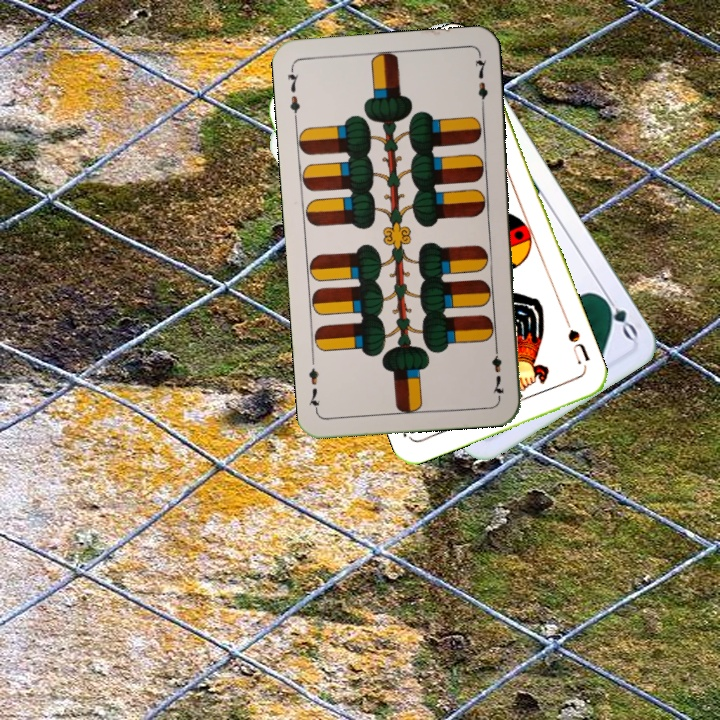E7: (488, 340, 507, 400), (283, 64, 302, 123)
GO: (595, 288, 641, 343)
SU: (563, 325, 593, 367)
